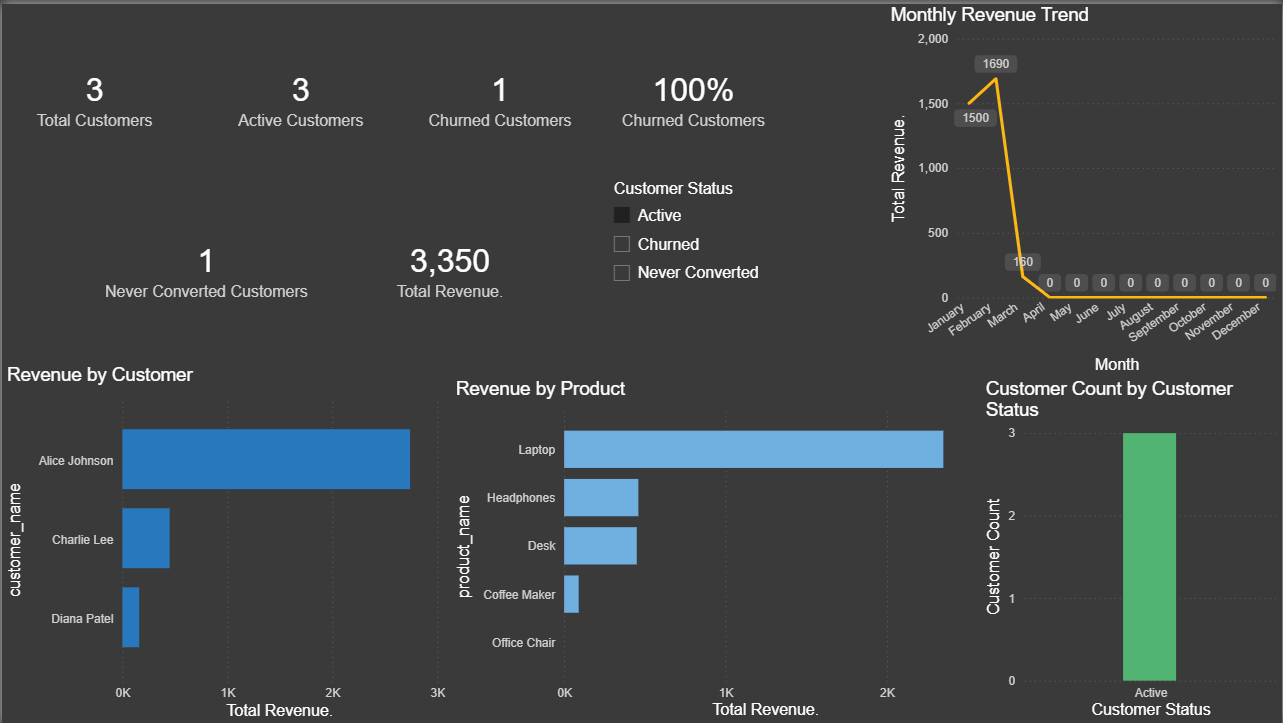

Layout of this report page (visuals, bound fields, positions):
{"tool":"powerbi","page":{"name":"Page 1","canvas":[1280,720],"ordinal":0},"visuals":[{"type":"lineChart","title":"Monthly Revenue Trend","fields":{"Category":["public orders.order_date.Variation.Date Hierarchy.Month"],"Y":["public customers.Total Revenue."]},"box":[884.3,0,395.7,374.3],"z":0},{"type":"card","fields":{"Values":["public customers.Total Revenue (Zero)"]},"box":[347.1,171.4,201.4,187.1],"z":1000},{"type":"clusteredBarChart","title":"Revenue by Customer","fields":{"Category":["public customers.customer_name"],"Y":["public customers.Total Revenue."]},"box":[0,360,448.6,360],"z":2000},{"type":"clusteredBarChart","title":"Revenue by Product","fields":{"Category":["public products.product_name"],"Y":["public customers.Total Revenue."]},"box":[448.6,374.3,530,345.7],"z":3000},{"type":"slicer","fields":{"Values":["public customers.Customer Status"]},"box":[598.6,171.4,285.7,170],"z":4000},{"type":"card","fields":{"Values":["public customers.Active Customers"]},"box":[201.4,0,195.7,187.1],"z":5000},{"type":"card","fields":{"Values":["public customers.Churned Customers"]},"box":[397.1,0,201.4,187.1],"z":6000},{"type":"card","fields":{"Values":["public customers.Never Converted Customers"]},"box":[92.9,187.1,224.3,154.3],"z":7000},{"type":"card","title":"Churn Rate (Based on Last 60 Days)","fields":{"Values":["public customers.Churned Customers"]},"box":[598.6,20,185.7,147.1],"z":8000},{"type":"card","fields":{"Values":["public customers.Total Customers"]},"box":[0,0,185.7,187.1],"z":9000},{"type":"clusteredColumnChart","fields":{"Category":["public customers.Customer Status"],"Y":["public customers.Customer Count"]},"box":[978.6,374.3,301.4,345.7],"z":10000}]}

Visuals, with their boxes in screenshot pixels (x1, y1, x2, y2), scaled from the page's 1280x720 canvas onto the 1283x723 screenshot:
"Monthly Revenue Trend" lineChart: 886:0:1282:376
card - public customers.Total Revenue (Zero): 348:172:550:360
"Revenue by Customer" clusteredBarChart: 0:362:450:722
"Revenue by Product" clusteredBarChart: 450:376:981:722
slicer - public customers.Customer Status: 600:172:886:343
card - public customers.Active Customers: 202:0:398:188
card - public customers.Churned Customers: 398:0:600:188
card - public customers.Never Converted Customers: 93:188:318:343
"Churn Rate (Based on Last 60 Days)" card: 600:20:786:168
card - public customers.Total Customers: 0:0:186:188
clusteredColumnChart - public customers.Customer Status x public customers.Customer Count: 981:376:1282:722
